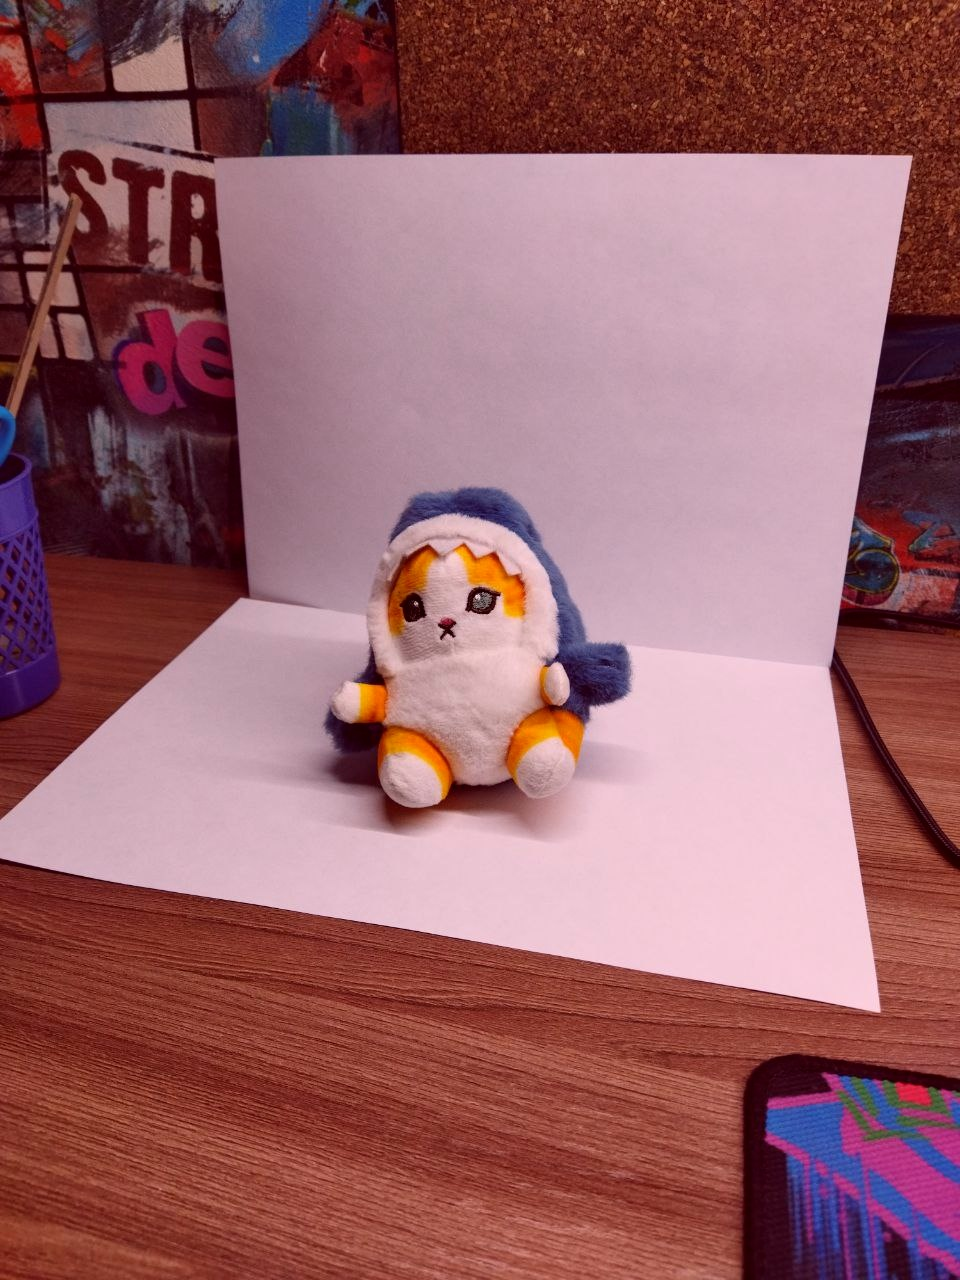Snark Cat: (329, 485, 629, 805)
